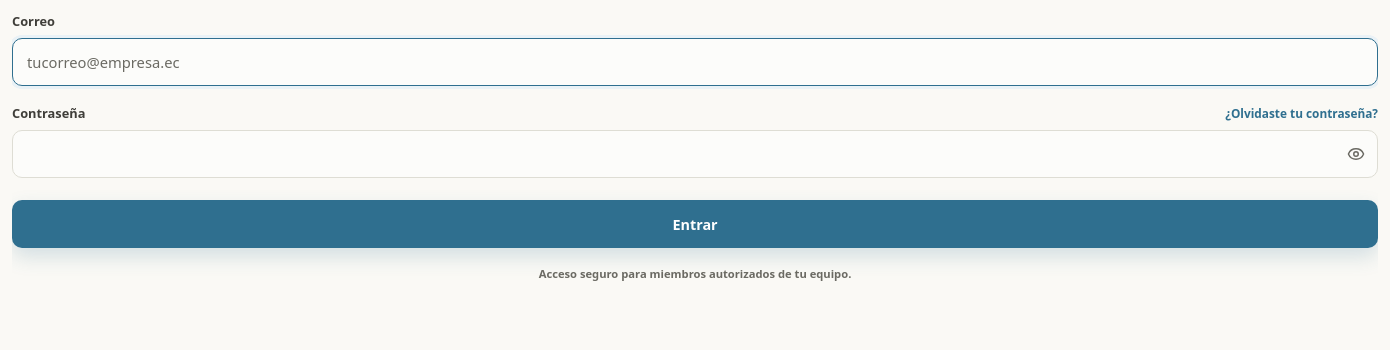
it: marca cada campo con su error y conserva el correo escrito
Click the button "Entrar" at [695, 224], box [12,200,1378,248]
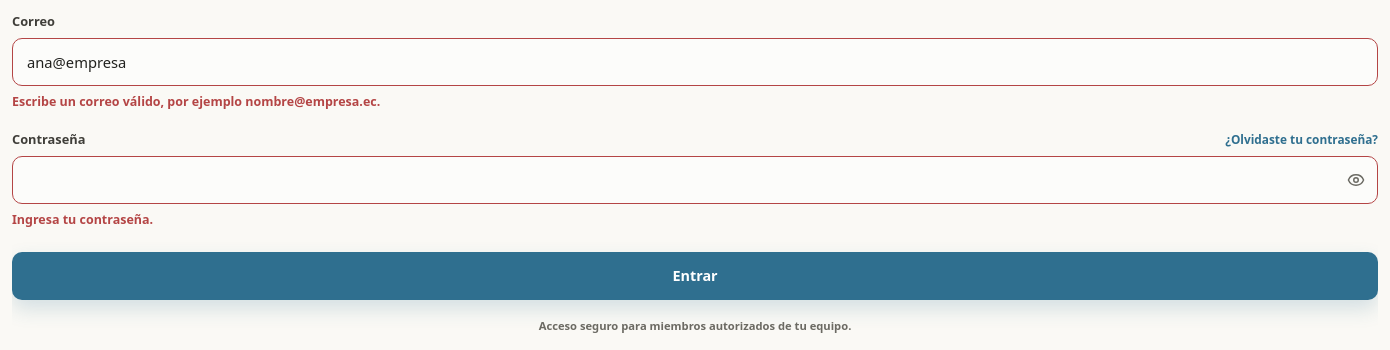
Expected: the text "Ingresa tu contraseña." is shown, [12,211,153,228]
Expected: the field labelled "Correo" holds "ana@empresa", [12,38,1378,86]
